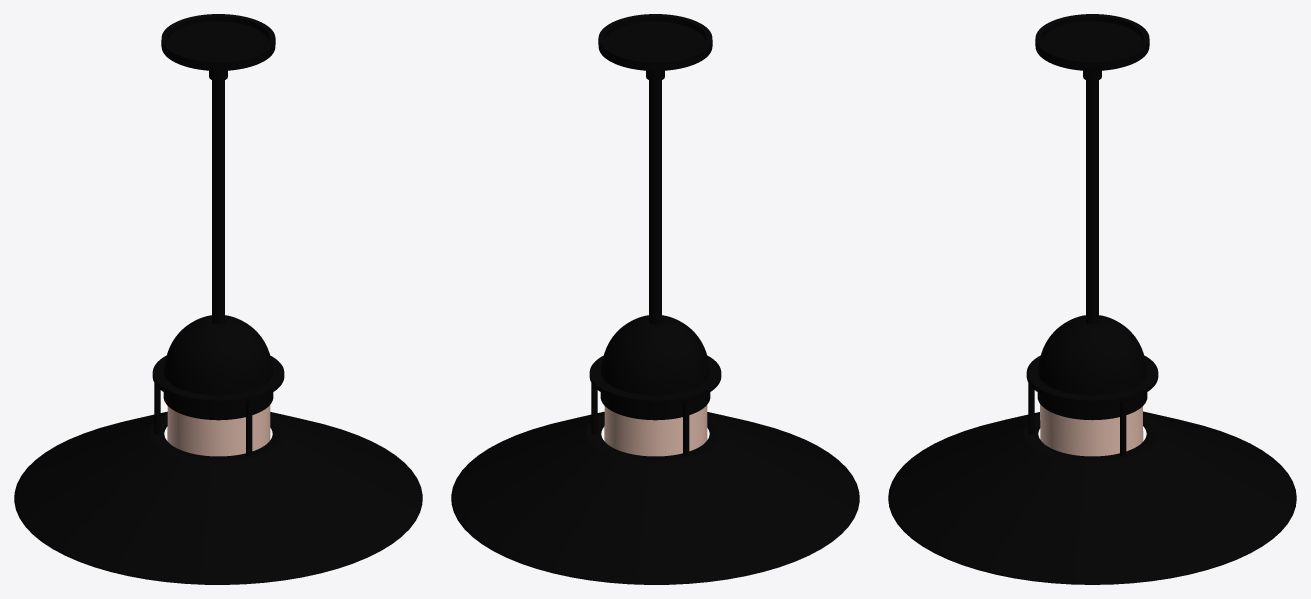
File: Bulb.fbx
3 views of the same model, side by side, from view 1: azimuth 30°, elevation 25°; view 2: azimuth 150°, elevation 25°; view 3: azimuth 270°, elevation 25° (orthographic).
Visible parts, largest first — view 1: Harbor 18 Pendant-007, Harbor 18 Pendant-005, Harbor 18 Pendant-009, Harbor 18 Pendant-003, Harbor 18 Pendant-008, Harbor 18 Pendant-006, Harbor 18 Pendant-002; view 2: Harbor 18 Pendant-007, Harbor 18 Pendant-005, Harbor 18 Pendant-009, Harbor 18 Pendant-003, Harbor 18 Pendant-008, Harbor 18 Pendant-006, Harbor 18 Pendant-002; view 3: Harbor 18 Pendant-007, Harbor 18 Pendant-005, Harbor 18 Pendant-009, Harbor 18 Pendant-003, Harbor 18 Pendant-008, Harbor 18 Pendant-006, Harbor 18 Pendant-002.
Boxes of the visible parts, bbox=[...] form: Harbor 18 Pendant-007: bbox=[14, 411, 422, 584]; Harbor 18 Pendant-005: bbox=[163, 315, 273, 420]; Harbor 18 Pendant-009: bbox=[161, 14, 275, 81]; Harbor 18 Pendant-003: bbox=[167, 405, 270, 456]; Harbor 18 Pendant-008: bbox=[212, 80, 224, 324]; Harbor 18 Pendant-006: bbox=[152, 355, 284, 404]; Harbor 18 Pendant-002: bbox=[154, 383, 252, 456]; Harbor 18 Pendant-007: bbox=[451, 411, 859, 584]; Harbor 18 Pendant-005: bbox=[600, 315, 710, 420]; Harbor 18 Pendant-009: bbox=[598, 14, 712, 81]; Harbor 18 Pendant-003: bbox=[604, 405, 707, 456]; Harbor 18 Pendant-008: bbox=[649, 80, 661, 324]; Harbor 18 Pendant-006: bbox=[589, 355, 721, 404]; Harbor 18 Pendant-002: bbox=[591, 383, 689, 456]; Harbor 18 Pendant-007: bbox=[888, 411, 1296, 584]; Harbor 18 Pendant-005: bbox=[1037, 315, 1147, 420]; Harbor 18 Pendant-009: bbox=[1035, 14, 1149, 81]; Harbor 18 Pendant-003: bbox=[1040, 404, 1143, 456]; Harbor 18 Pendant-008: bbox=[1086, 80, 1098, 324]; Harbor 18 Pendant-006: bbox=[1026, 355, 1158, 404]; Harbor 18 Pendant-002: bbox=[1028, 383, 1126, 456].
Size of the model in its own units: 171 by 236 by 171.
